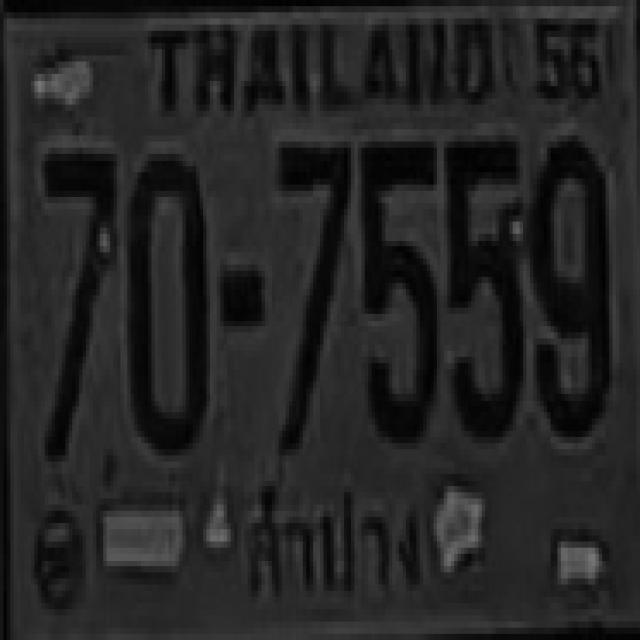0: (128, 148, 206, 449)
5: (358, 135, 433, 437), (444, 135, 519, 437)
7: (275, 139, 348, 446), (41, 148, 114, 455)
9: (526, 132, 609, 434)
Lampang: (238, 473, 436, 609)
